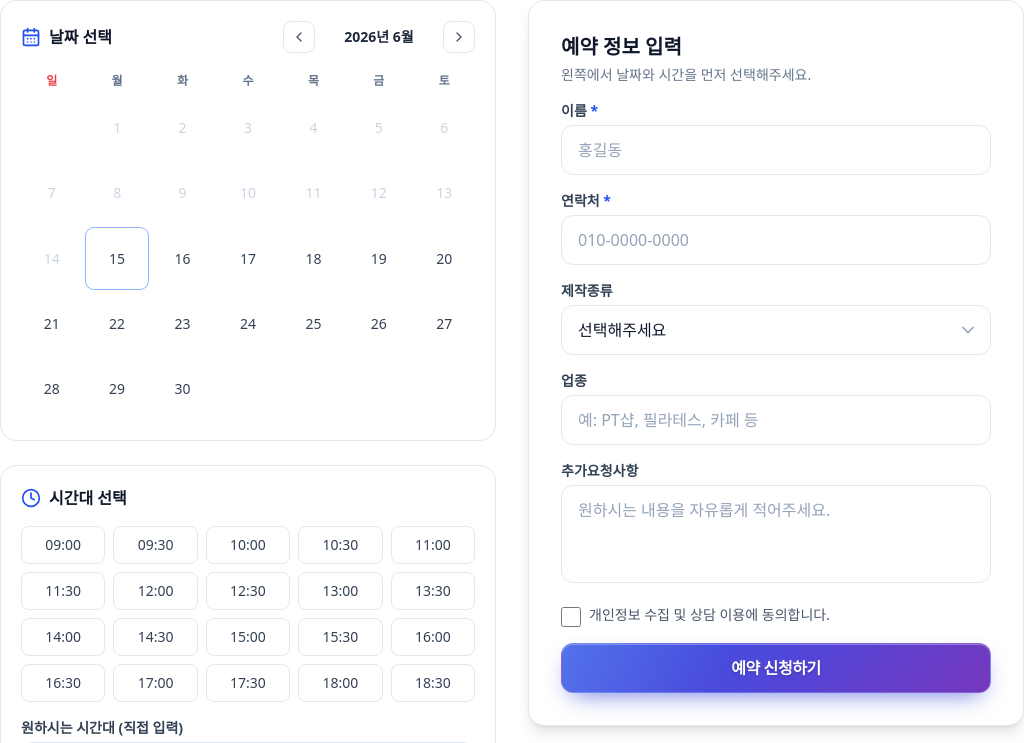
it: ReservationBooker › disables past time slots when today is selected
This screenshot has width=1024, height=743.
What coordinates should you click on to do the following:
click the button "15"
I would click on:
 (117, 259)
Its box is 86,228 -> 148,289.
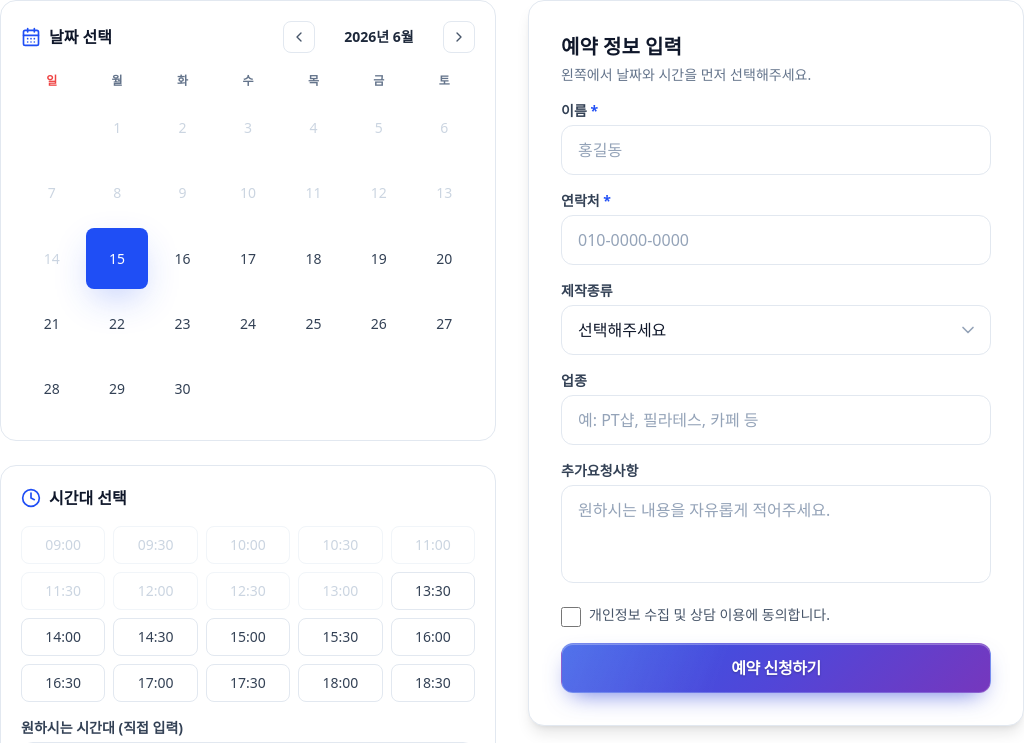
Check: the button "13:30" is enabled, box 391,572 -> 475,610
Check: the button "09:00" is disabled, box 21,526 -> 105,564
Check: the button "13:00" is disabled, box 298,572 -> 383,610
